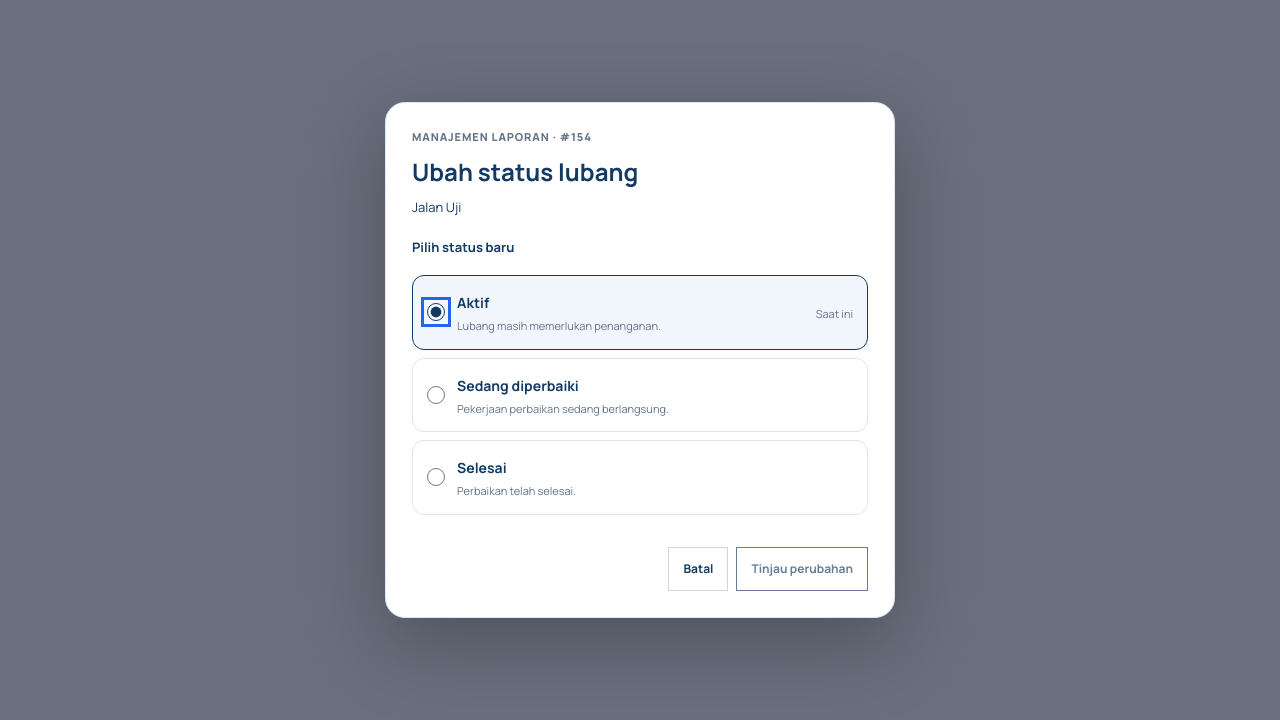
Test: admin status confirmation › does not mutate on selection or cancel; requires explicit confirmation
The width and height of the screenshot is (1280, 720).
Later steps or results of the test are not shown.
Click the radio button labelled "Selesai Perbaikan telah selesai.".
click(436, 478)  # box [427,468,445,486]
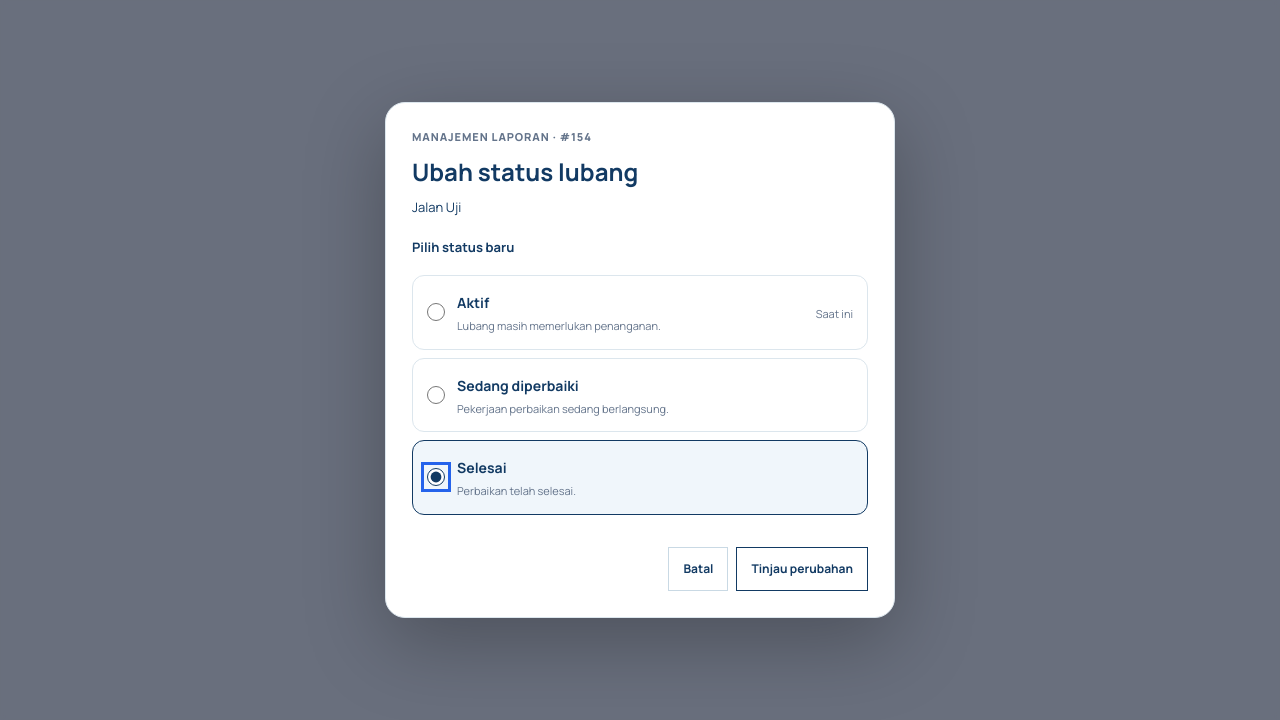
Click the button "Tinjau perubahan".
click(802, 569)  # box [736,547,868,591]
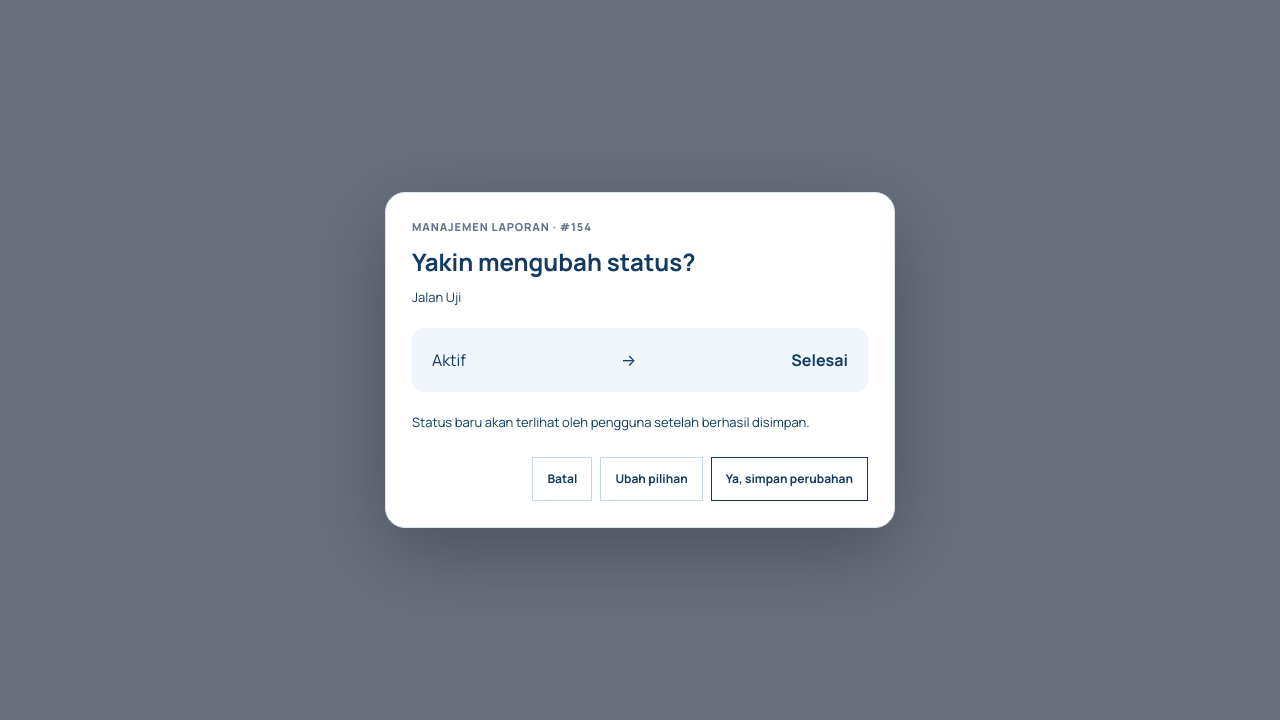
Check: the heading "Yakin mengubah status?" is shown, box [412,245,696,278]
